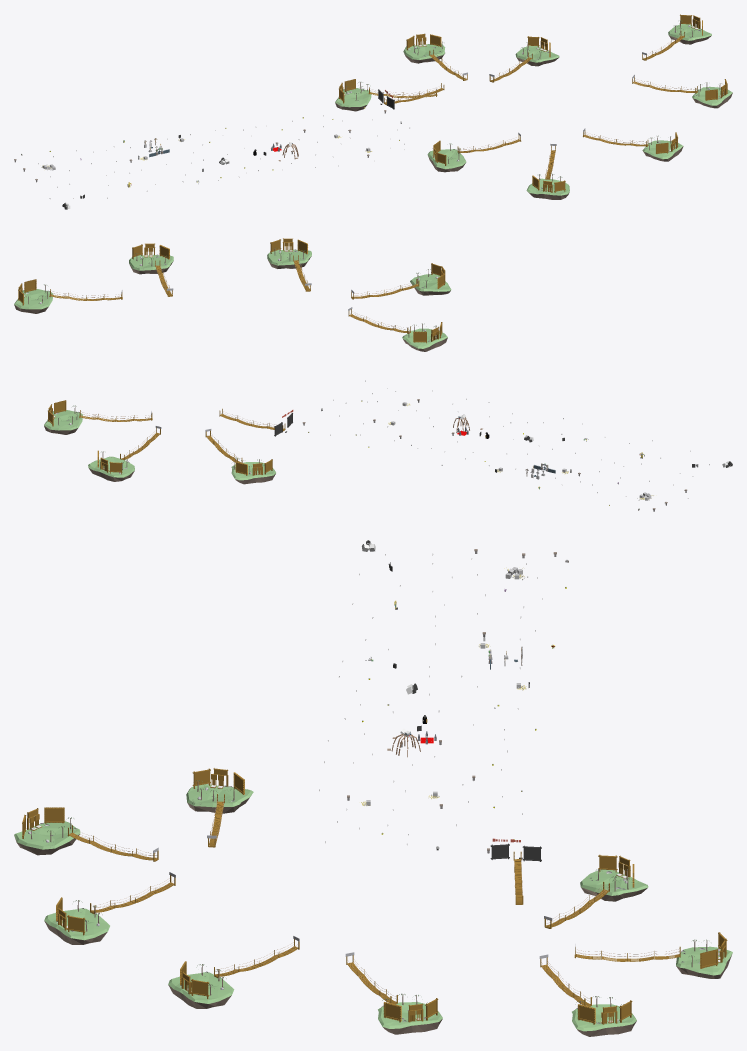
The model's file is maze_world_rooms.glb.
3 renders of one model, top to bottom at view 1: azimuth 30°, elevation 25°; view 2: azimuth 150°, elevation 25°; view 3: azimuth 270°, elevation 25°, orthographic. The views are drawn at different scales.
Visible parts, largest first — view 1: Roblox reference geometry; view 2: Roblox reference geometry; view 3: Roblox reference geometry.
Part boxes in pixels (x1,y1,x2,y2): Roblox reference geometry: (14, 14, 732, 209); Roblox reference geometry: (14, 238, 732, 511); Roblox reference geometry: (14, 540, 732, 1036).
Size of the model in its own units: 815 by 81.16 by 498.
